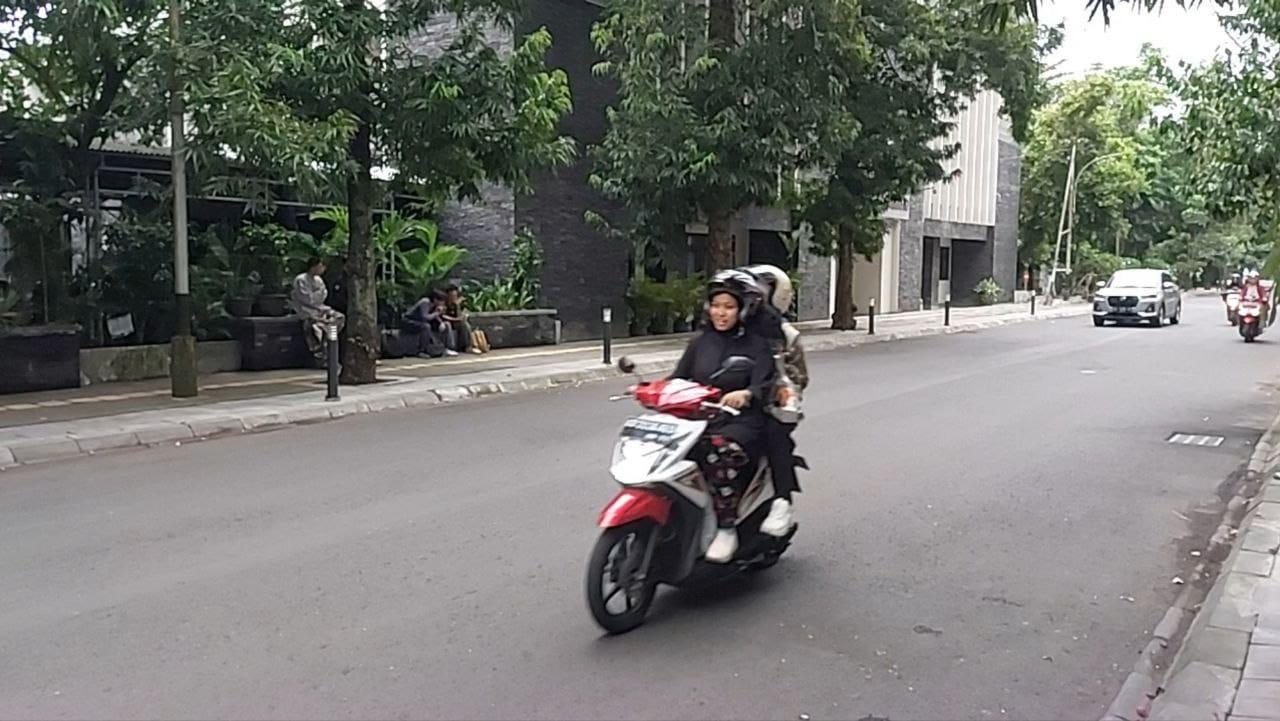helm: (702, 269, 764, 331), (747, 264, 794, 316)
riding: (585, 262, 812, 636)
